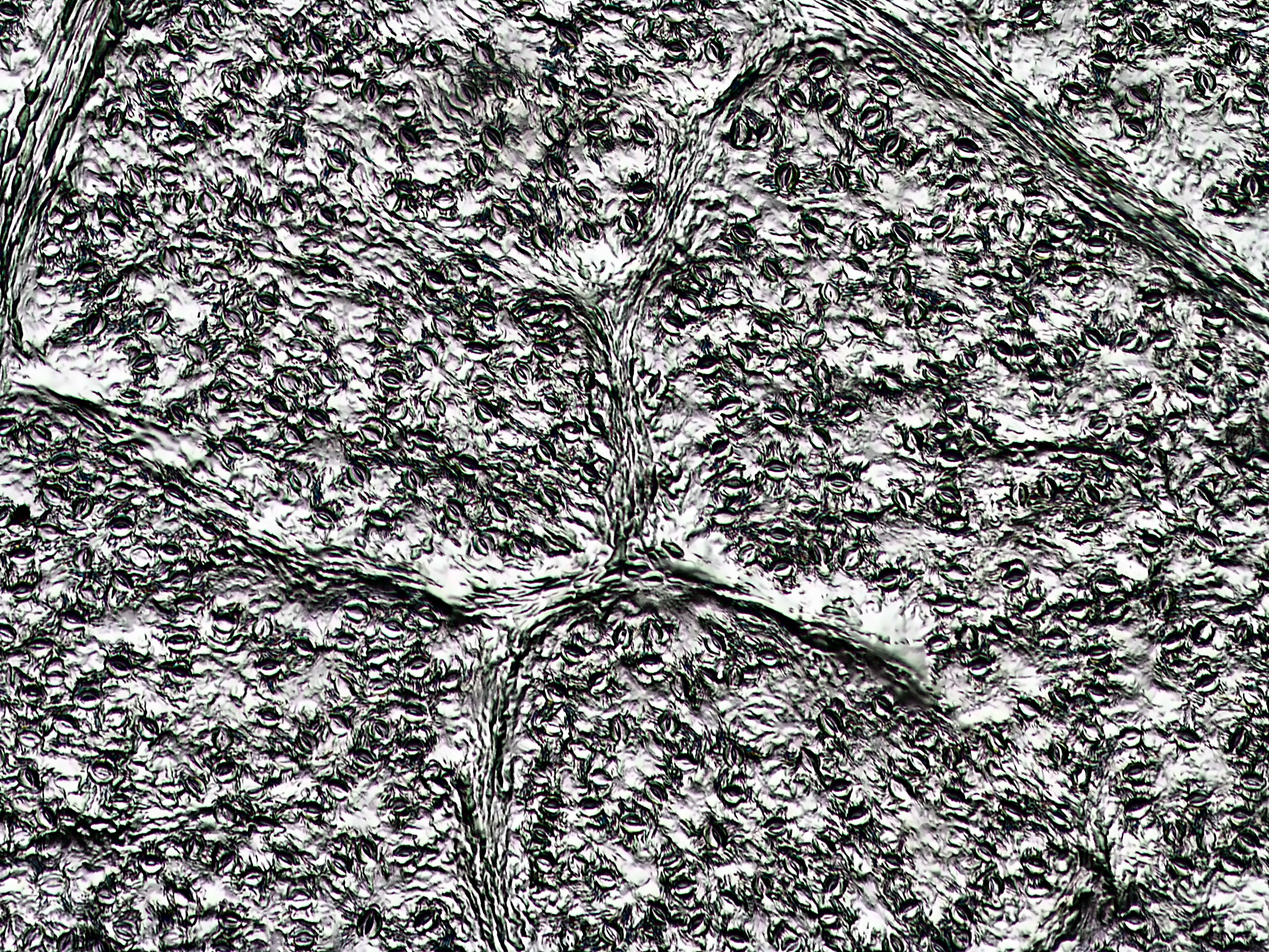stomata: (356, 909, 382, 939), (817, 710, 844, 738), (542, 154, 569, 181), (1007, 293, 1034, 320), (730, 114, 752, 147), (775, 162, 800, 191), (1000, 564, 1029, 589), (887, 777, 917, 801), (219, 436, 250, 459), (1193, 530, 1224, 553), (143, 308, 169, 335), (703, 821, 728, 849), (1046, 803, 1074, 828), (823, 473, 854, 495), (360, 418, 386, 444), (952, 138, 980, 162), (715, 892, 740, 918), (811, 834, 837, 859), (842, 255, 868, 280), (84, 310, 108, 337), (414, 908, 441, 932), (22, 924, 45, 952), (807, 537, 830, 565), (1213, 193, 1241, 216), (112, 919, 141, 941), (423, 775, 453, 796), (890, 221, 915, 246), (598, 921, 623, 946), (840, 545, 865, 570), (1190, 916, 1214, 942), (877, 567, 903, 591), (880, 132, 906, 156), (158, 246, 181, 273), (184, 834, 207, 861), (404, 656, 431, 679), (722, 929, 749, 952), (302, 313, 329, 336), (333, 672, 355, 700), (58, 609, 87, 630), (799, 746, 820, 775), (637, 654, 666, 675), (471, 42, 495, 67), (400, 467, 425, 491), (677, 294, 702, 318), (657, 710, 681, 735), (891, 487, 915, 512), (587, 671, 613, 694), (545, 116, 568, 142), (1125, 85, 1151, 108), (889, 264, 912, 290), (798, 217, 825, 239), (999, 801, 1026, 823), (1043, 626, 1070, 648), (1173, 728, 1200, 750), (619, 813, 647, 834), (648, 372, 669, 400), (106, 517, 135, 537), (764, 526, 793, 546), (852, 226, 876, 250), (347, 461, 371, 485), (327, 854, 351, 878), (966, 425, 990, 449), (948, 903, 973, 926), (487, 498, 512, 521), (1154, 587, 1177, 612), (1186, 20, 1211, 43), (1161, 411, 1186, 434), (481, 124, 503, 150), (416, 345, 438, 371), (99, 221, 125, 243), (105, 655, 131, 677), (695, 355, 721, 377), (643, 782, 669, 804), (344, 602, 370, 624), (829, 163, 848, 193), (311, 507, 338, 528), (212, 725, 233, 752), (1124, 798, 1151, 819), (763, 459, 790, 480), (791, 496, 818, 517), (933, 595, 960, 616), (729, 224, 757, 244), (74, 690, 102, 710), (39, 877, 67, 897), (1167, 857, 1195, 877), (722, 477, 750, 497), (943, 175, 971, 195), (183, 340, 207, 363), (17, 767, 40, 791), (567, 737, 591, 760), (688, 913, 711, 937), (870, 696, 894, 719), (472, 532, 495, 556), (727, 339, 750, 363), (689, 262, 712, 286), (417, 607, 441, 630), (737, 543, 761, 566), (808, 57, 832, 80), (821, 92, 845, 115), (1162, 820, 1186, 843), (1242, 173, 1265, 197), (818, 281, 842, 304), (463, 342, 492, 361), (165, 634, 194, 653), (763, 408, 792, 427), (628, 180, 653, 202), (248, 239, 273, 261), (221, 309, 246, 331), (379, 368, 404, 390), (185, 775, 207, 800), (1123, 762, 1148, 784), (722, 784, 747, 806), (641, 619, 663, 644), (879, 75, 904, 97), (1002, 212, 1024, 237), (1131, 383, 1156, 405), (53, 714, 79, 735), (89, 762, 115, 783), (1117, 727, 1143, 748), (1228, 726, 1249, 752), (75, 262, 102, 282), (661, 2, 688, 22), (1022, 599, 1049, 619), (1048, 219, 1075, 239), (175, 595, 203, 614), (610, 714, 629, 742), (557, 24, 580, 47), (782, 288, 805, 311), (137, 716, 160, 739), (968, 655, 991, 678), (1192, 621, 1215, 644), (490, 204, 512, 228), (163, 485, 187, 507), (941, 787, 965, 809), (1194, 69, 1216, 93), (466, 152, 487, 177), (432, 189, 457, 210), (261, 397, 286, 418), (357, 839, 378, 864), (567, 852, 588, 877), (1048, 741, 1069, 766), (557, 421, 582, 442), (860, 106, 885, 127), (1079, 721, 1104, 742), (1061, 265, 1086, 286), (1061, 82, 1086, 103), (1083, 237, 1112, 255), (531, 225, 551, 251), (578, 797, 604, 817), (896, 899, 922, 919), (401, 704, 428, 723), (1021, 857, 1048, 876), (35, 524, 65, 541), (431, 315, 453, 338), (317, 365, 339, 388), (103, 707, 126, 729), (351, 748, 374, 770), (908, 753, 931, 775), (424, 396, 446, 419), (456, 454, 479, 476), (631, 122, 653, 145), (1128, 22, 1151, 44), (1031, 372, 1053, 395), (932, 420, 954, 443), (1088, 414, 1110, 437), (299, 66, 320, 90), (572, 185, 596, 206), (422, 271, 446, 292), (512, 360, 533, 384), (302, 409, 330, 427), (26, 640, 54, 658), (703, 634, 727, 655), (534, 440, 555, 464), (544, 682, 568, 703), (938, 449, 966, 467), (786, 89, 807, 113), (362, 79, 382, 104), (214, 762, 239, 782), (240, 868, 265, 888), (986, 731, 1006, 756), (724, 742, 744, 767), (664, 40, 689, 60), (1018, 698, 1043, 718), (1195, 674, 1220, 694), (848, 317, 873, 337), (904, 427, 924, 452), (1123, 424, 1148, 444), (1099, 452, 1124, 472), (256, 658, 282, 677), (942, 745, 961, 771), (536, 489, 562, 508), (561, 645, 587, 664), (1235, 833, 1261, 852), (1240, 772, 1266, 791), (145, 110, 172, 128), (51, 456, 78, 474), (137, 855, 164, 873), (942, 515, 969, 533), (950, 235, 977, 253), (576, 220, 598, 242), (518, 182, 540, 204), (289, 468, 311, 490), (110, 570, 132, 592), (327, 779, 349, 801), (289, 888, 311, 910), (367, 719, 389, 741), (982, 875, 1004, 897), (809, 427, 831, 449), (187, 9, 210, 30), (39, 237, 62, 258), (237, 348, 260, 369), (277, 372, 300, 393), (29, 423, 52, 444), (72, 547, 93, 570), (213, 804, 236, 825), (507, 537, 530, 558), (1079, 484, 1100, 507), (326, 149, 346, 173), (318, 264, 342, 284), (73, 496, 93, 520), (252, 617, 272, 641), (846, 806, 870, 826), (1123, 911, 1147, 931), (585, 412, 605, 436), (661, 314, 685, 334), (959, 626, 979, 650), (633, 15, 653, 39), (1096, 575, 1120, 595), (1105, 600, 1129, 620), (1081, 329, 1105, 349), (1230, 41, 1250, 65), (392, 180, 417, 199), (116, 197, 135, 222), (593, 870, 618, 889), (217, 911, 243, 929), (365, 511, 391, 529), (717, 398, 743, 416), (934, 486, 960, 504), (1077, 518, 1103, 536), (397, 127, 419, 148), (537, 75, 559, 96), (282, 425, 304, 446), (35, 807, 56, 829), (297, 731, 318, 753), (539, 797, 561, 818), (751, 875, 772, 897), (711, 439, 733, 460), (906, 302, 927, 324), (266, 38, 286, 61), (394, 99, 417, 119), (493, 77, 513, 100), (762, 259, 782, 282), (385, 400, 408, 420), (649, 902, 669, 925), (444, 499, 464, 522), (613, 626, 633, 649), (927, 634, 950, 654), (704, 38, 724, 61), (1047, 687, 1070, 707), (1067, 600, 1090, 620), (1162, 632, 1185, 652), (1243, 82, 1266, 102), (989, 341, 1012, 361), (1186, 386, 1209, 406), (1038, 477, 1058, 500), (470, 302, 497, 319), (308, 33, 327, 57), (173, 135, 197, 154), (213, 614, 237, 633), (589, 768, 613, 787), (763, 817, 787, 836), (412, 430, 436, 449), (770, 559, 794, 578), (1010, 482, 1029, 506), (619, 211, 637, 236), (532, 343, 557, 361), (717, 288, 742, 306), (1091, 53, 1116, 71), (188, 232, 214, 249), (600, 4, 626, 21), (992, 616, 1013, 637), (931, 215, 952, 236), (126, 167, 146, 189), (104, 279, 124, 301), (329, 714, 349, 736), (830, 778, 852, 798), (1056, 347, 1076, 369), (616, 63, 639, 82), (803, 329, 826, 348), (751, 320, 774, 339), (1085, 683, 1108, 702), (1119, 333, 1142, 352), (1123, 120, 1146, 139), (1148, 445, 1167, 468), (106, 452, 130, 470), (159, 545, 183, 563), (168, 667, 192, 685), (256, 710, 280, 728), (528, 826, 552, 844), (801, 392, 819, 416), (380, 620, 404, 638), (1031, 242, 1055, 260), (580, 90, 605, 107), (10, 581, 35, 598), (282, 192, 302, 213), (130, 548, 151, 568), (393, 844, 414, 864), (973, 842, 994, 862), (1244, 686, 1264, 707), (883, 372, 904, 392), (1140, 533, 1160, 554), (315, 207, 337, 226), (197, 191, 216, 213), (726, 666, 745, 688), (766, 353, 788, 372), (222, 71, 240, 94), (283, 105, 306, 123), (586, 68, 609, 86), (471, 376, 494, 394), (132, 355, 155, 373), (1072, 766, 1090, 789), (1142, 291, 1165, 309), (923, 363, 946, 381), (197, 523, 221, 540), (9, 548, 33, 565), (291, 639, 315, 656), (16, 730, 40, 747), (586, 121, 610, 138), (516, 0, 540, 17), (1017, 4, 1041, 21), (1235, 367, 1259, 384), (61, 212, 81, 232), (672, 755, 697, 771), (712, 509, 737, 525), (457, 83, 477, 103), (1085, 646, 1110, 662), (957, 349, 977, 369), (167, 34, 188, 53), (243, 68, 262, 89), (169, 571, 190, 590), (497, 459, 518, 478), (577, 370, 596, 391), (756, 120, 775, 141), (1234, 622, 1253, 643), (1153, 330, 1174, 349), (973, 202, 994, 221), (1193, 485, 1212, 506), (423, 42, 441, 64), (673, 879, 695, 897), (784, 856, 802, 878), (378, 330, 400, 348), (1097, 9, 1119, 27), (970, 271, 992, 289), (945, 398, 967, 416), (174, 190, 191, 213), (527, 767, 550, 784), (107, 484, 133, 499), (756, 650, 780, 666), (1203, 310, 1227, 326), (460, 260, 480, 279), (952, 930, 971, 950), (476, 402, 496, 421), (286, 339, 306, 358), (331, 68, 349, 89), (211, 384, 232, 402), (302, 801, 323, 819), (403, 738, 424, 756), (118, 389, 143, 404), (661, 853, 683, 870), (940, 305, 963, 321), (110, 793, 129, 812), (534, 855, 553, 874), (579, 464, 598, 483), (203, 117, 223, 135), (279, 136, 297, 156), (209, 265, 229, 283), (159, 167, 179, 185), (1020, 344, 1038, 364), (95, 888, 116, 905), (293, 932, 314, 949), (539, 397, 560, 414), (1200, 344, 1221, 361), (108, 110, 124, 132), (840, 405, 862, 421), (335, 634, 357, 650), (1010, 170, 1035, 184), (238, 198, 253, 221), (1186, 792, 1209, 807), (171, 403, 189, 422), (813, 363, 831, 382), (219, 178, 236, 198), (1008, 262, 1028, 279), (254, 816, 275, 832), (882, 854, 903, 870), (42, 487, 64, 502), (22, 686, 44, 701), (522, 306, 541, 323), (257, 295, 277, 310), (276, 851, 294, 867), (828, 878, 844, 896), (146, 80, 168, 93), (352, 20, 366, 39), (393, 43, 407, 62), (819, 911, 838, 925), (389, 800, 408, 813)
